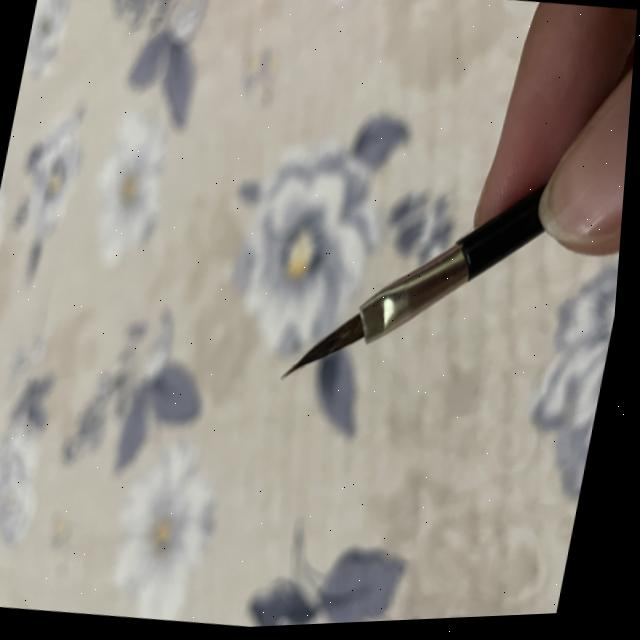brush: (268, 210, 477, 424)
